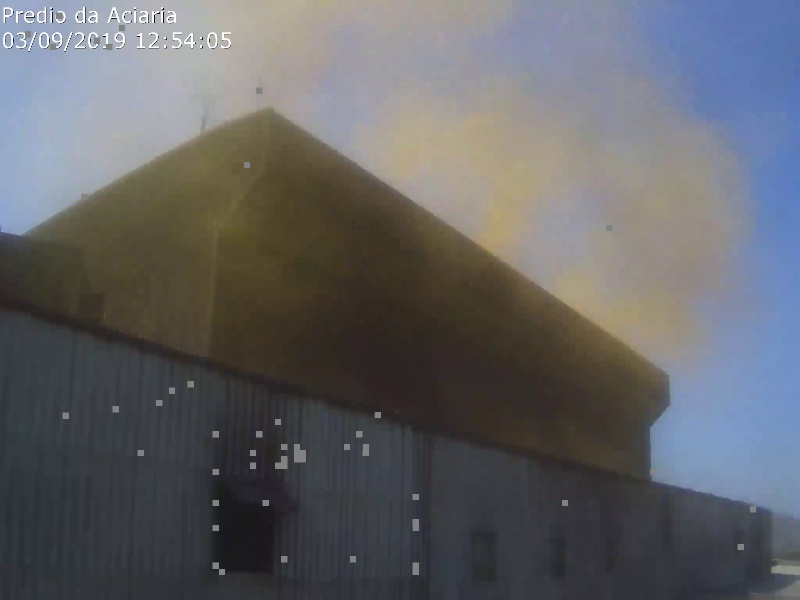Pessimo: (190, 6, 759, 435)
